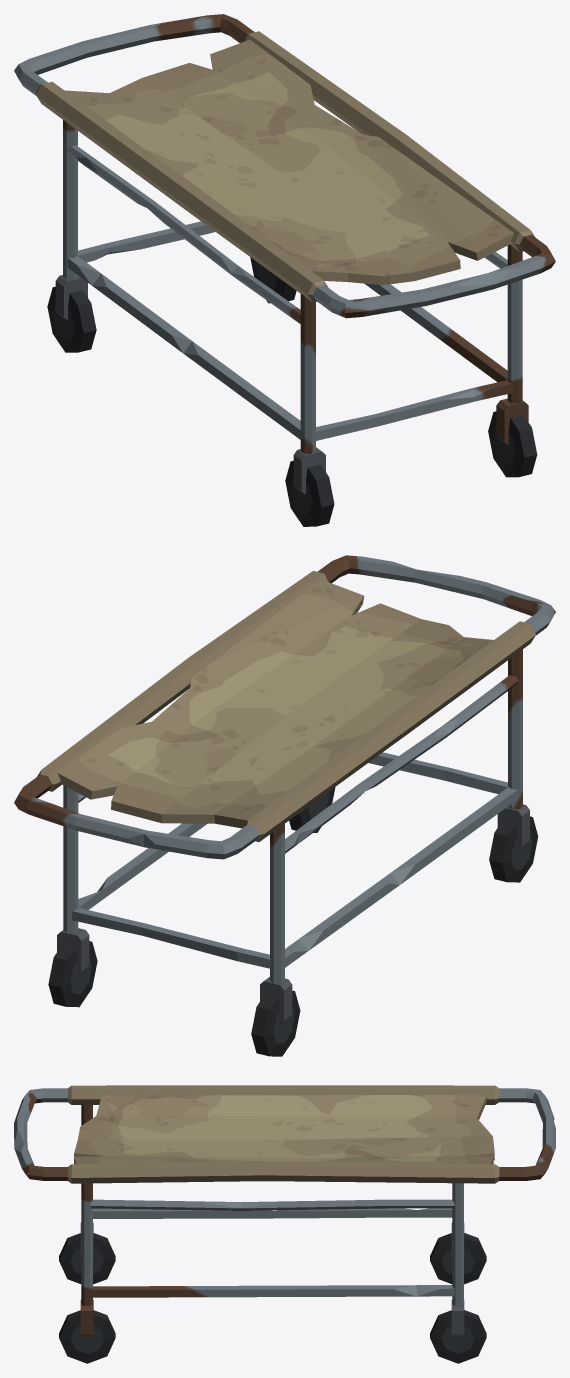
File: SM_Prop_Gurney_02.fbx
3 renders of one model, top to bottom at view 1: azimuth 30°, elevation 25°; view 2: azimuth 150°, elevation 25°; view 3: azimuth 270°, elevation 25°, orthographic. The views are drawn at different scales.
Visible parts, largest first — view 1: SM_Prop_Gurney_02; view 2: SM_Prop_Gurney_02; view 3: SM_Prop_Gurney_02.
Boxes of the visible parts, x1,y1,x2,y2 form: SM_Prop_Gurney_02: [14, 14, 555, 526]; SM_Prop_Gurney_02: [14, 555, 555, 1056]; SM_Prop_Gurney_02: [14, 1085, 555, 1363].
Size of the model in its own units: 92.86 by 98.86 by 244.
